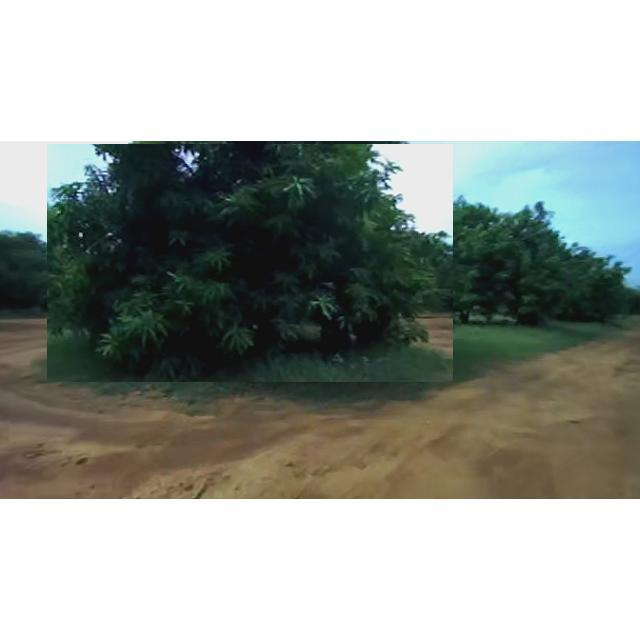tree: (47, 144, 453, 382), (428, 192, 564, 331), (538, 228, 632, 328)
